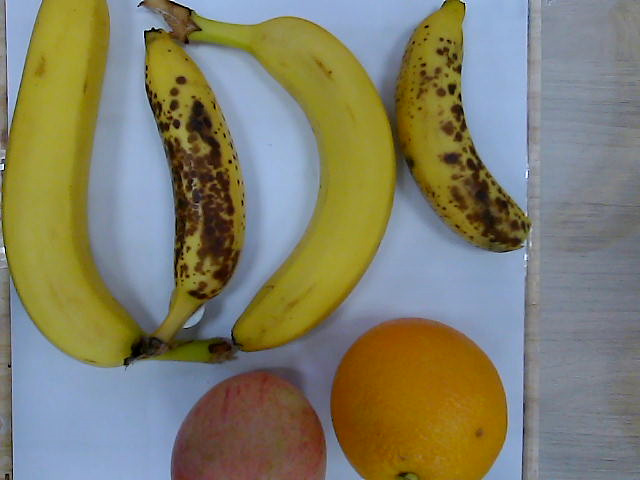fresh_apple: (171, 371, 325, 480)
fresh_banana: (233, 16, 396, 352), (3, 1, 144, 368)
fresh_orange: (330, 319, 510, 480)
rotten_banana: (395, 1, 530, 251), (144, 28, 244, 338)
